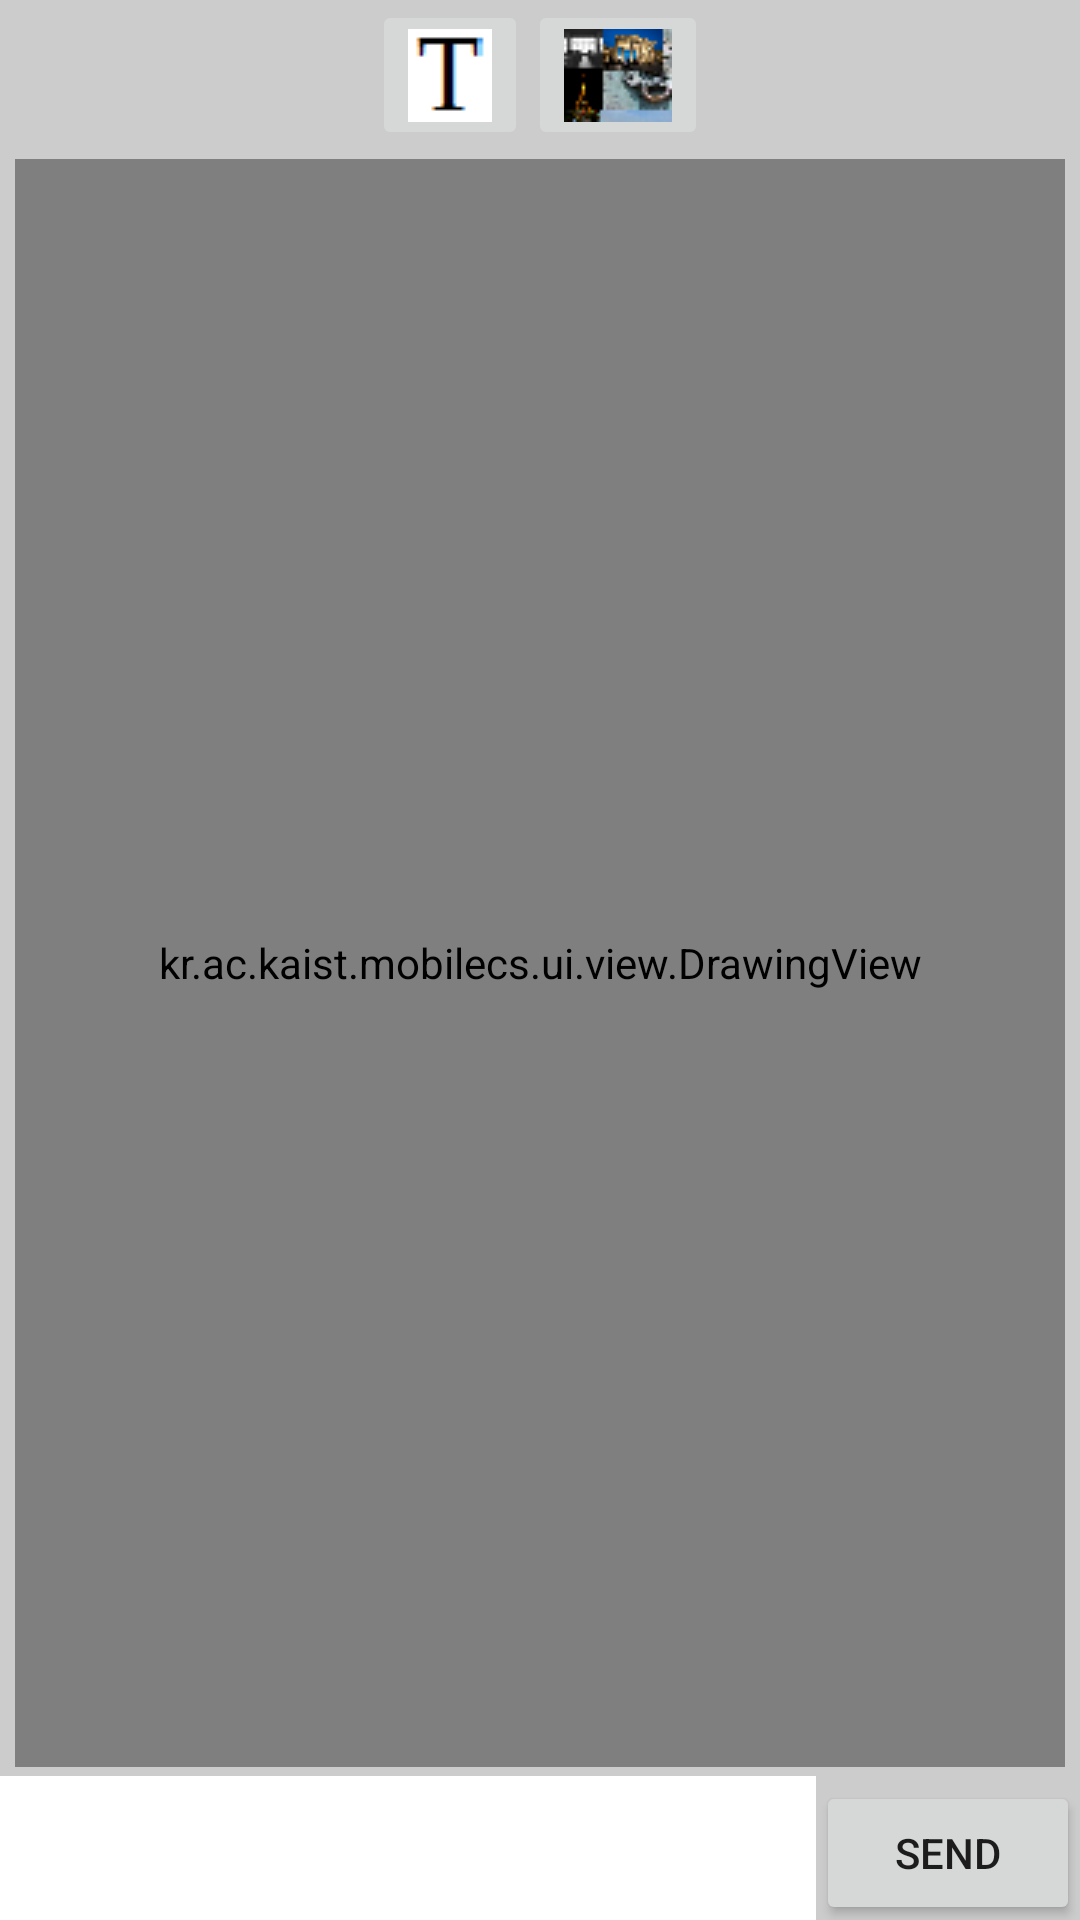

Screen size 1080px×1920px. Icon name, then its center in pixels as [x,y]:
Put Picture: [618,75]
Type: [450,75]
